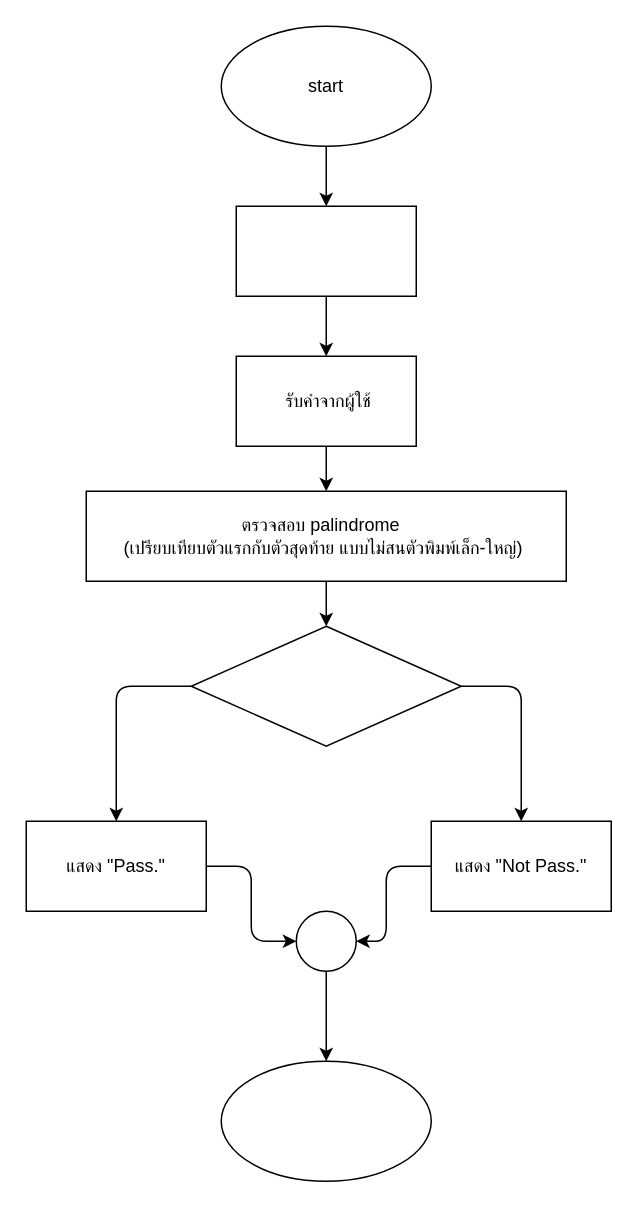
This 638x1208 diagram has some shape labels left out. The shapes that lost their labels are listed below. From the top down, each one's centre as x and y in pixels, then its label:
(x=325, y=250): แสดง "Enter word:"
(x=325, y=685): เป็น palindrome?
(x=325, y=1120): end
